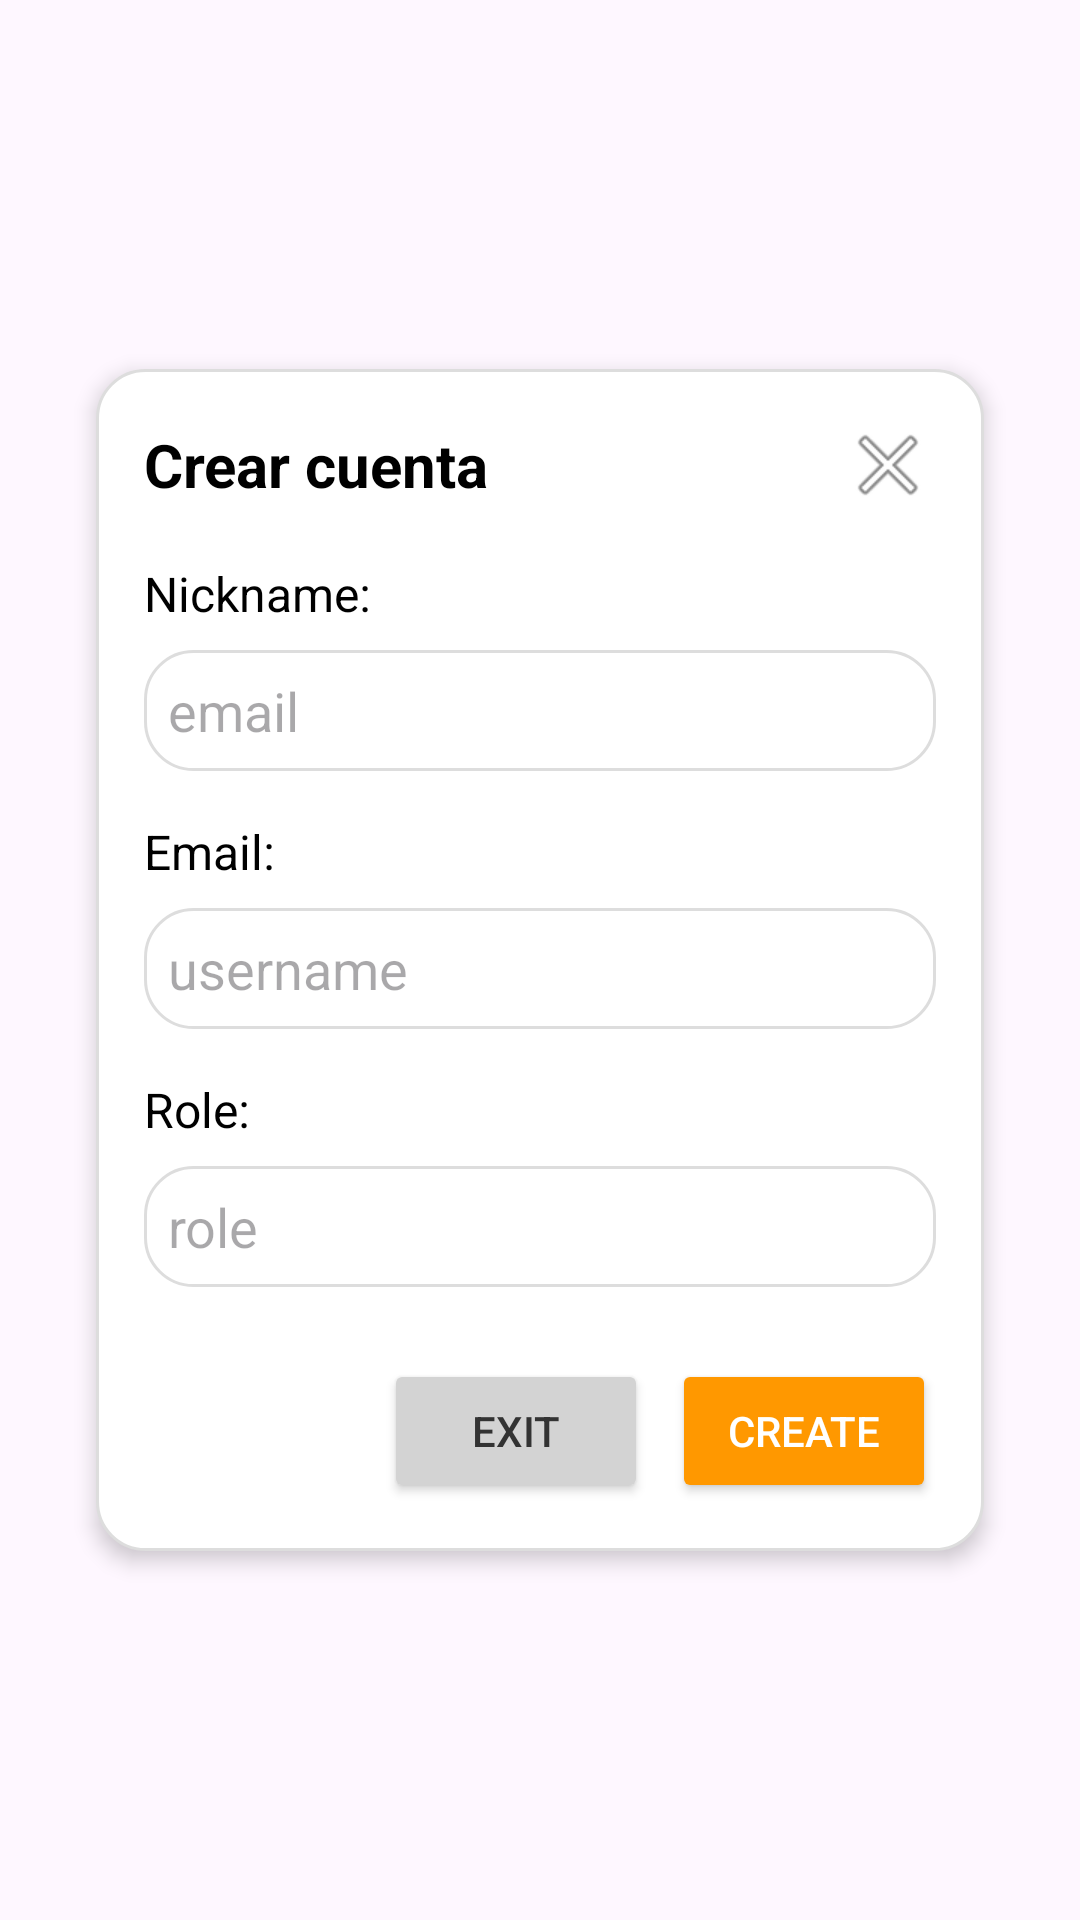

Screen size 1080 × 1920. Icon name, then its box in pixels as region(x1, y1, x2, y2):
close clear cancel: region(858, 435, 918, 495)
